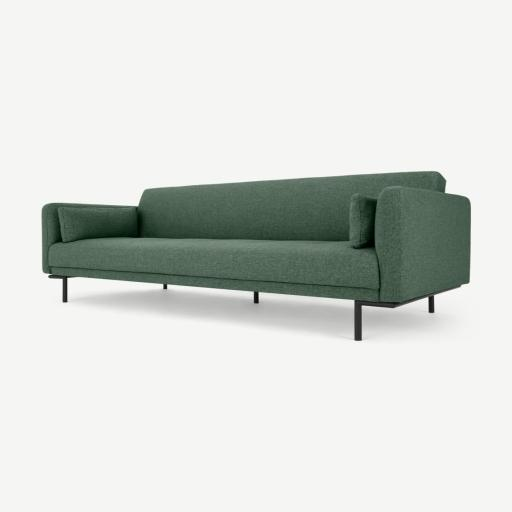back_cushion: (137, 173, 445, 248)
base: (56, 268, 379, 298)
left_arm: (375, 187, 470, 302)
legs: (354, 287, 459, 340), (49, 275, 71, 302)
one-seater: (0, 0, 511, 512)
right_arm: (42, 203, 138, 270)
seat_cushion: (50, 238, 379, 291)
